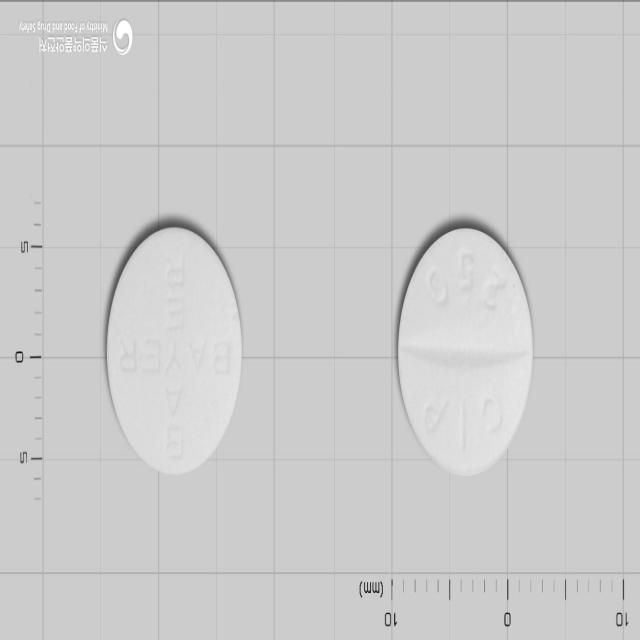Ausfixime Cap: (396, 226, 533, 478), (105, 227, 242, 476)
